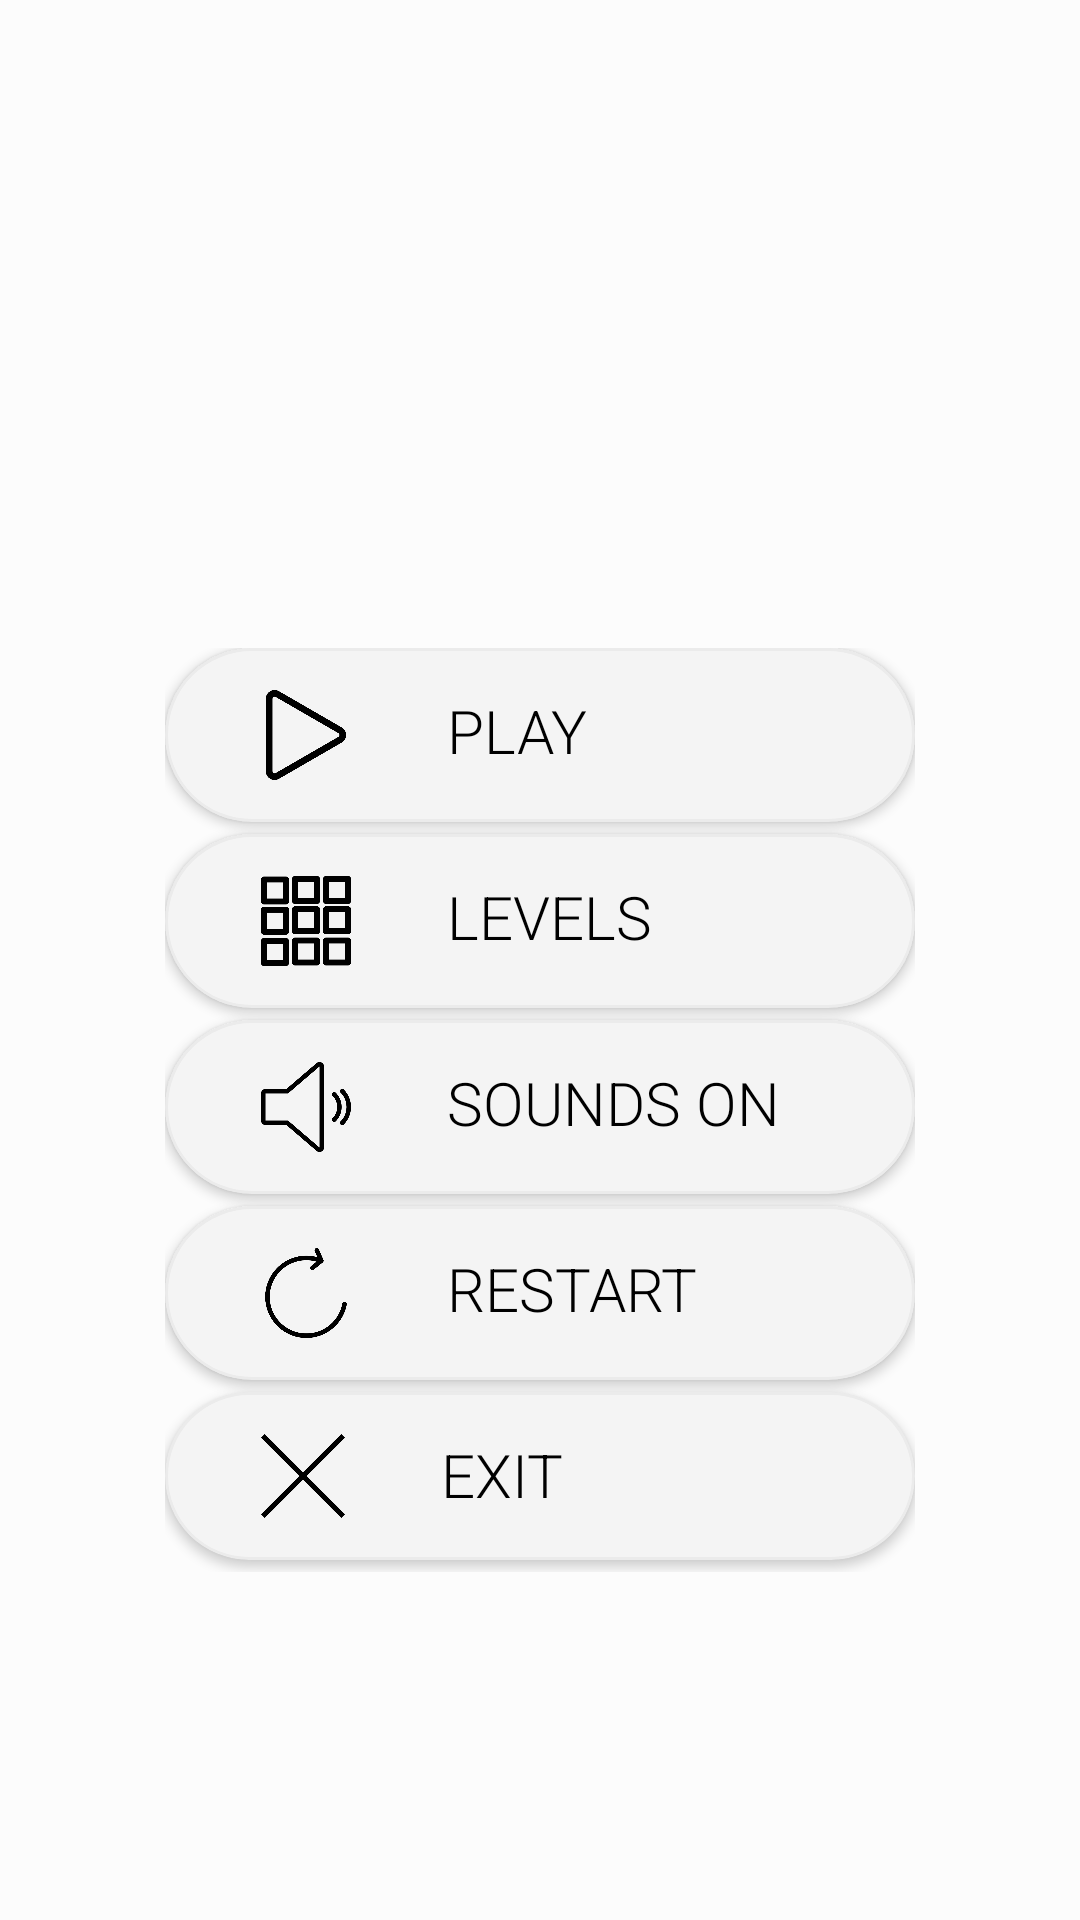

Point at icon controls on the screen. Image size 1080px x 1920px, points as [x,y].
circular arrow: [306,1293]
multiply: [303,1476]
nine boxes: [306,921]
volume: [306,1107]
